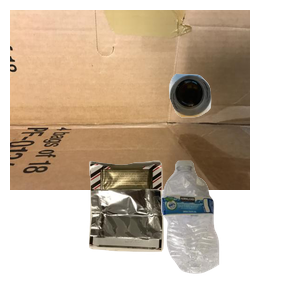cardboard: (10, 10, 250, 190)
glass: (166, 71, 300, 181)
plastic: (159, 158, 300, 300)
trash: (86, 158, 242, 300)
